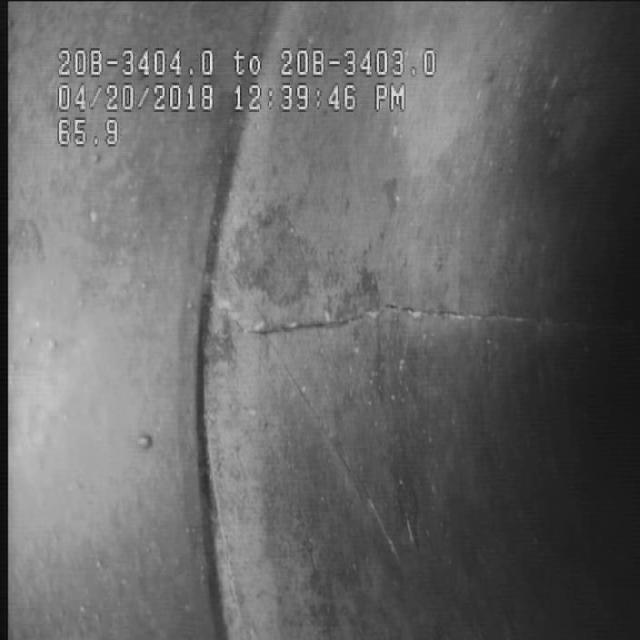Crack: (256, 273, 570, 359)
